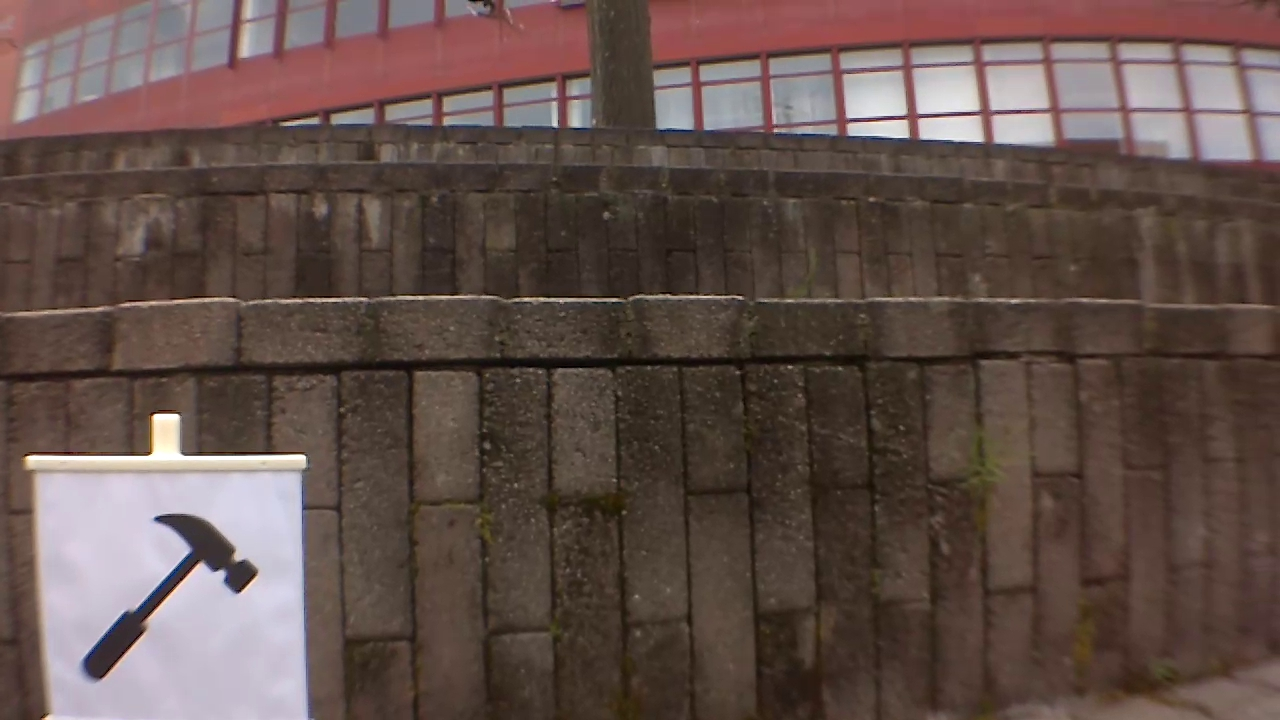hammer: (80, 505, 261, 683)
